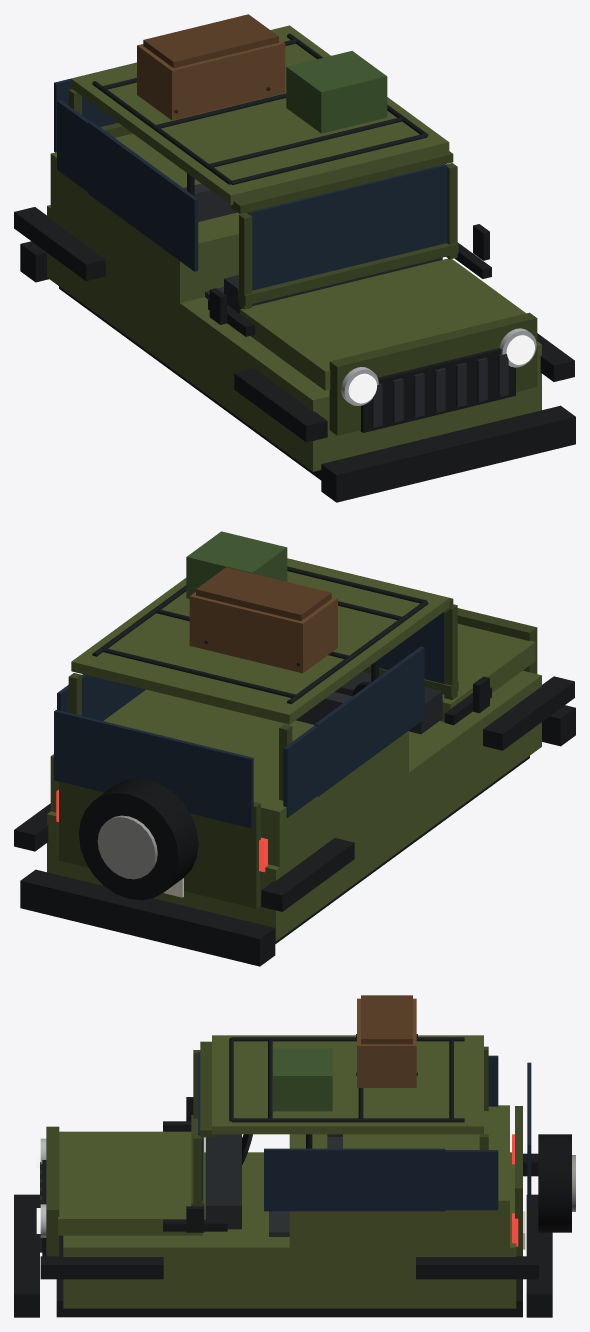
File: car_body.glb
3 renders of one model, top to bottom at view 1: azimuth 30°, elevation 25°; view 2: azimuth 150°, elevation 25°; view 3: azimuth 270°, elevation 25°, orthographic. The views are drawn at different scales.
Parts seen in each view (by area): view 1: mesh; view 2: mesh; view 3: mesh.
Part boxes in pixels (x1=…): mesh: x1=14, y1=14, x2=575, y2=502; mesh: x1=14, y1=531, x2=575, y2=966; mesh: x1=14, y1=995, x2=575, y2=1317.
Size of the model in its own units: 2.05 by 2.12 by 4.34.
